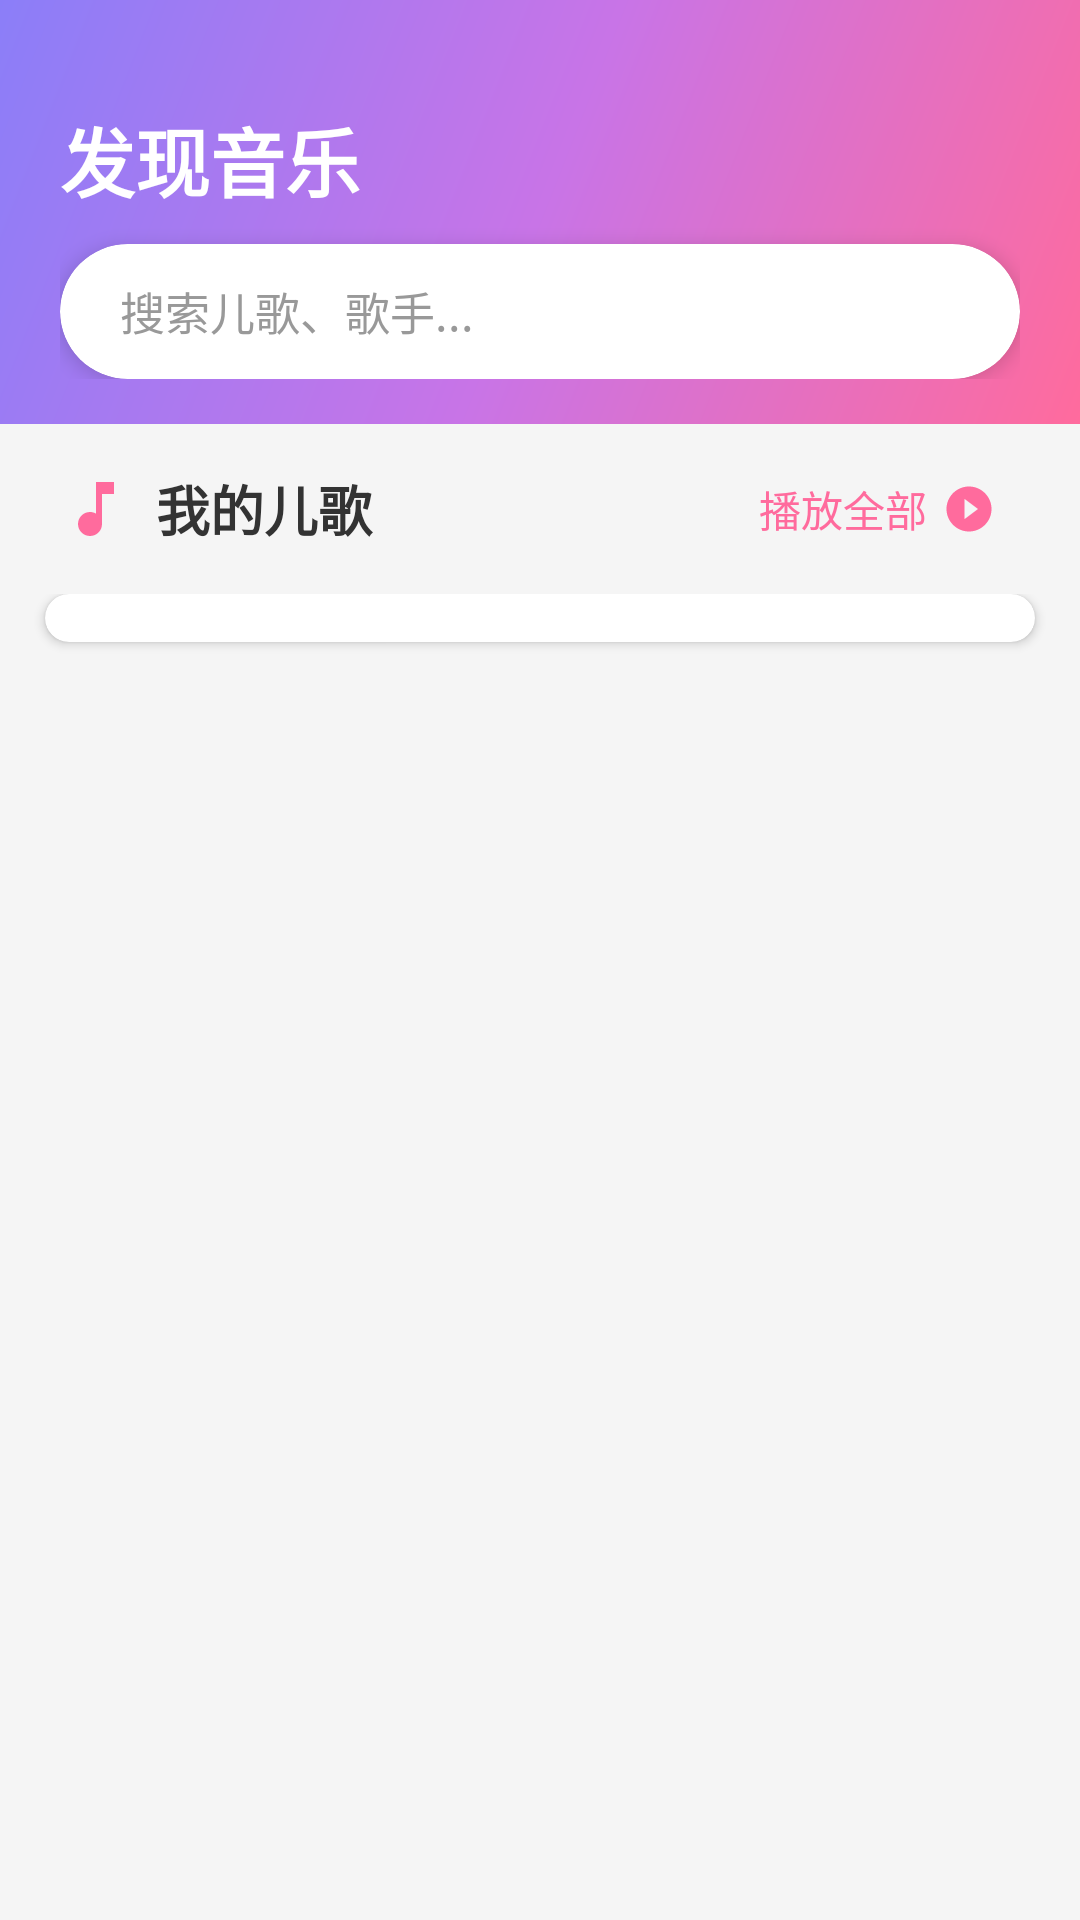

Named icons in this screenshot (1080x1920) and their bounding boxes, bbox=[x1, y1, x2, y2]:
music note: bbox=[78, 482, 114, 536]
